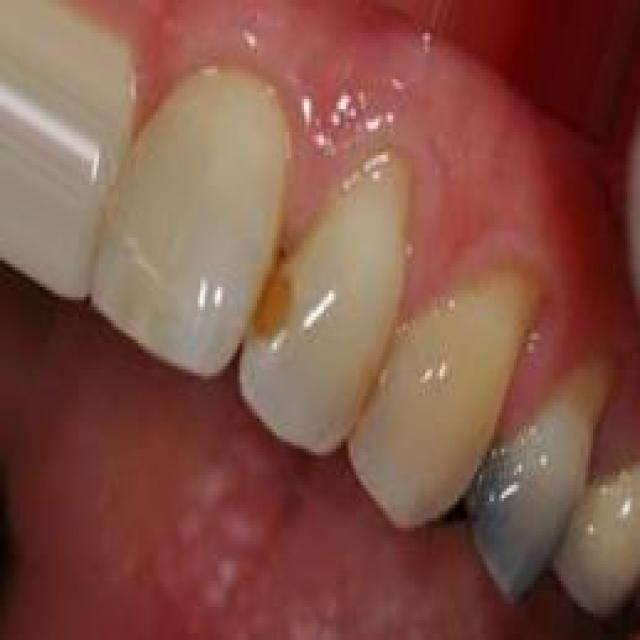caries: (241, 256, 314, 345)
